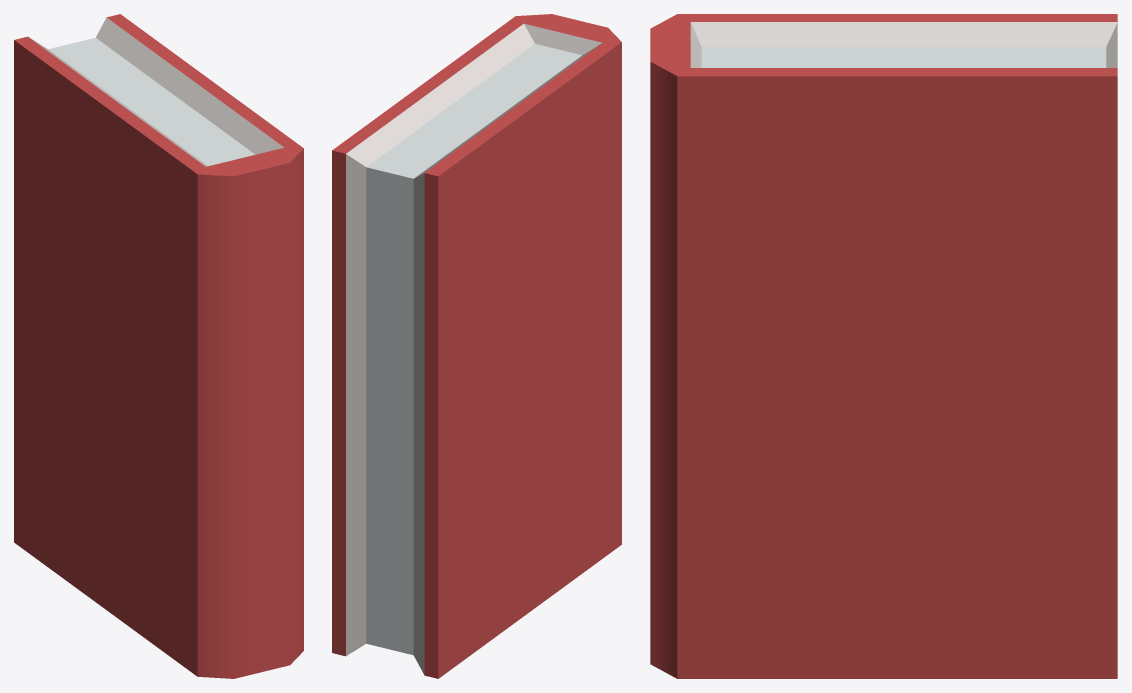
The model's file is book3.fbx.
The picture shows the model from 3 angles, left to right: view 1: azimuth 30°, elevation 25°; view 2: azimuth 150°, elevation 25°; view 3: azimuth 270°, elevation 25°; orthographic projection. The views are drawn at different scales.
Visible parts, largest first — view 1: book3; view 2: book3; view 3: book3.
Boxes of the visible parts, left/top/right/bottom form: book3: left=14, top=14, right=303, bottom=678; book3: left=332, top=14, right=621, bottom=678; book3: left=650, top=14, right=1117, bottom=678.
Size of the model in its own units: 0.3662 by 1.65 by 1.16.
1 material, 1 textured.
